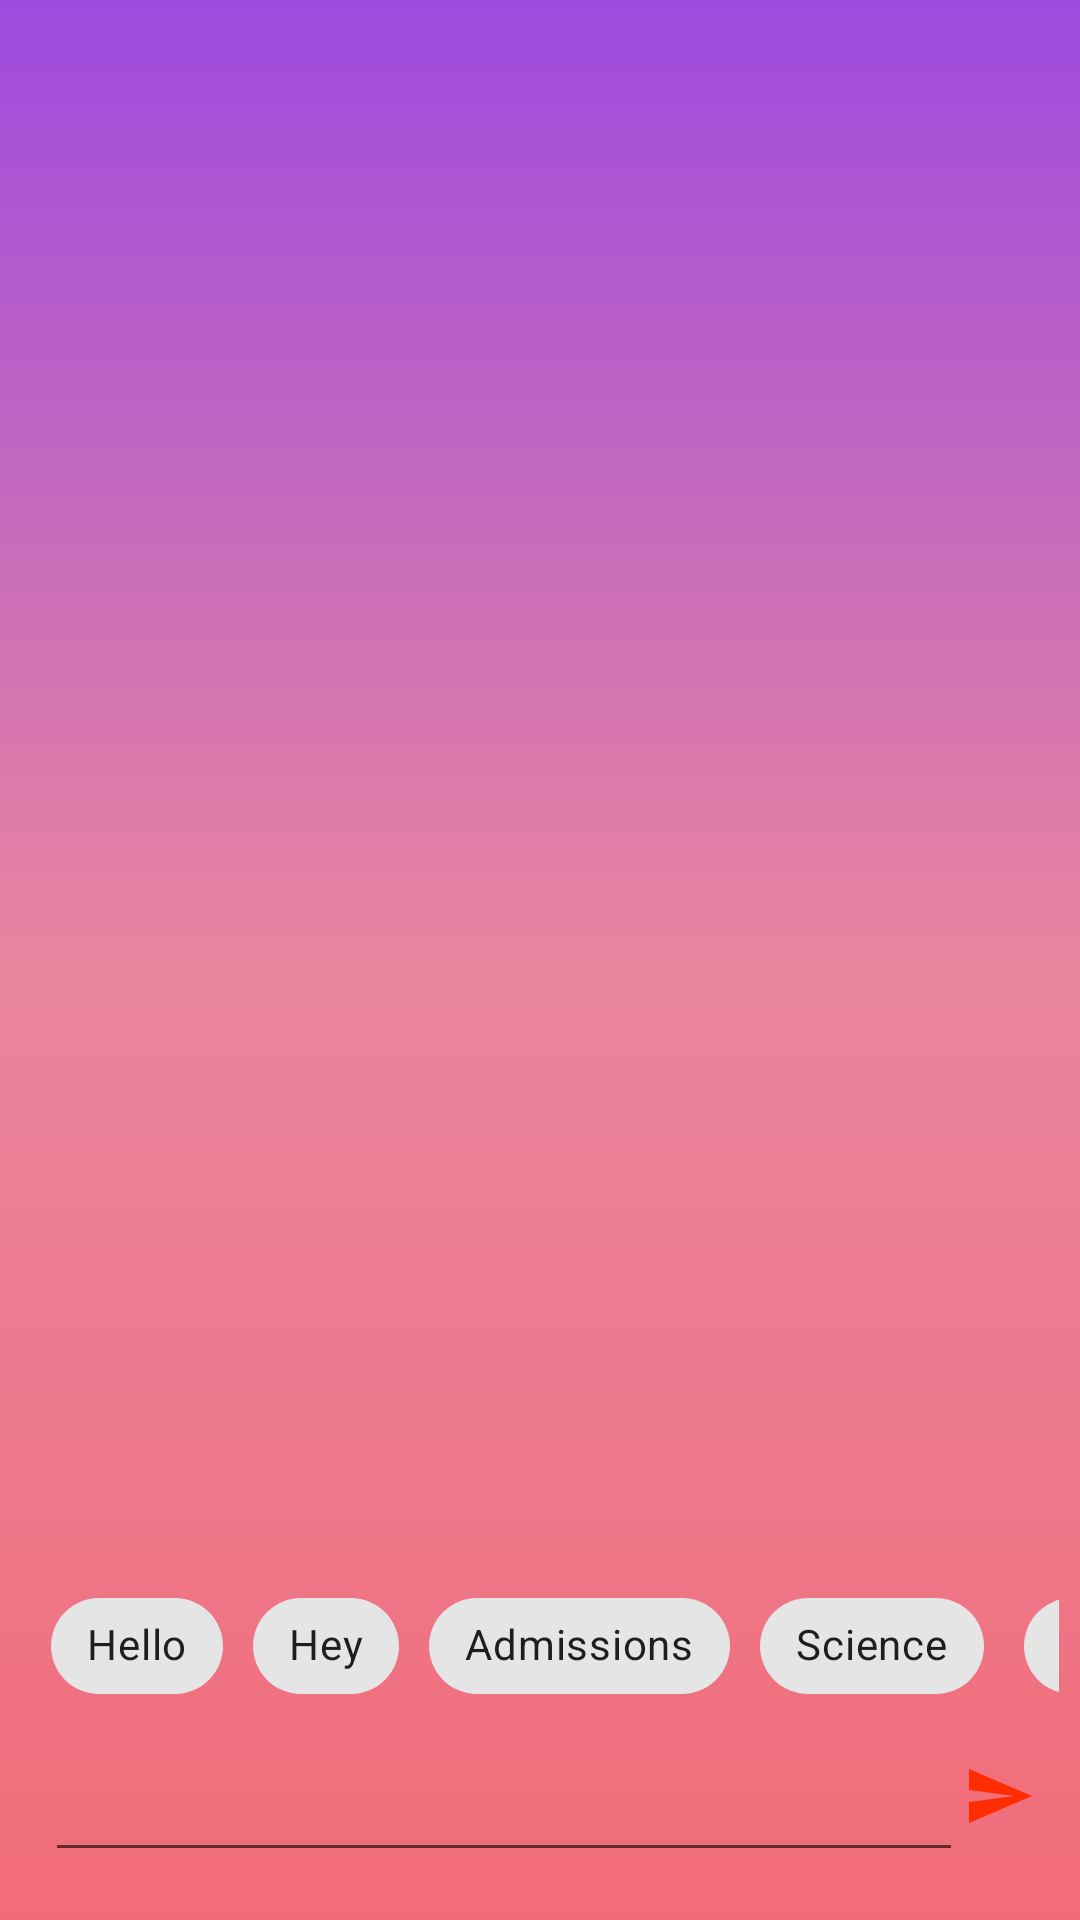

Named icons in this screenshot (1080px×1920px) and their centers, (x=x, y=y):
chatbot send: (x=1000, y=1796)
